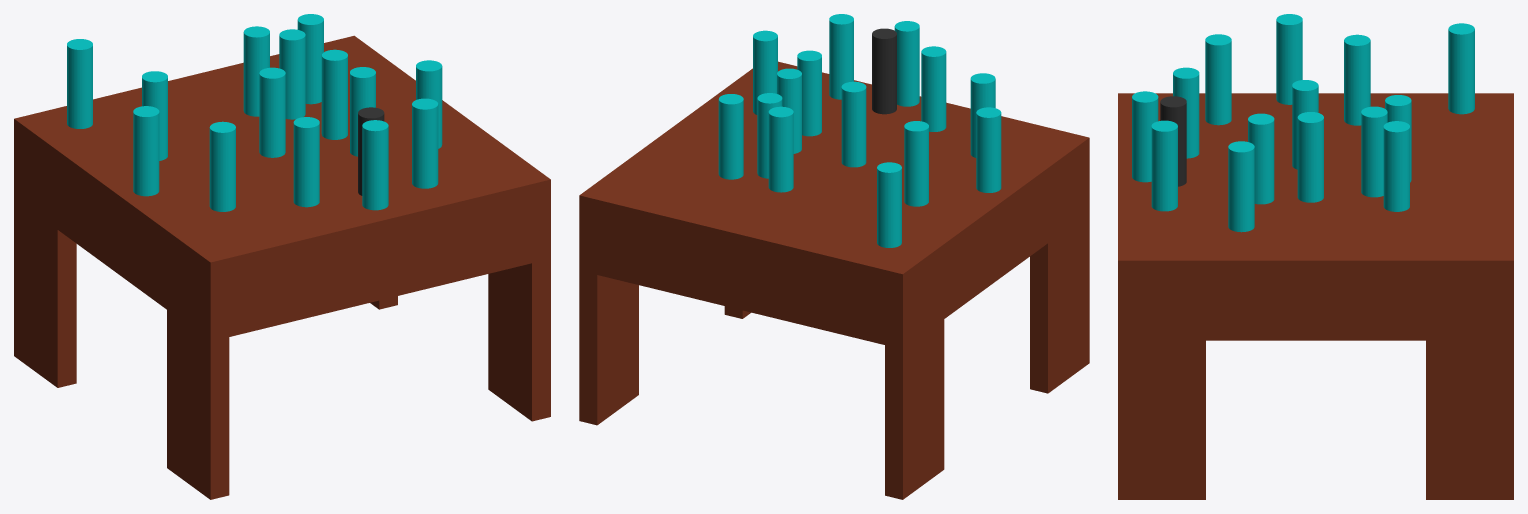
Rendered from can_world_15_cans.dae.
3 renders of one model, left to right at view 1: azimuth 30°, elevation 25°; view 2: azimuth 150°, elevation 25°; view 3: azimuth 270°, elevation 25°, orthographic. The views are drawn at different scales.
Parts seen in each view (by area): view 1: base (×19); view 2: base (×19); view 3: base (×18).
Part boxes in pixels (x1,y1,x2,y2): base (×19): (14,14,550,499); base (×19): (579,14,1089,499); base (×18): (1118,14,1513,499).
Size of the model in its own units: 0.9 by 0.9 by 0.811.
